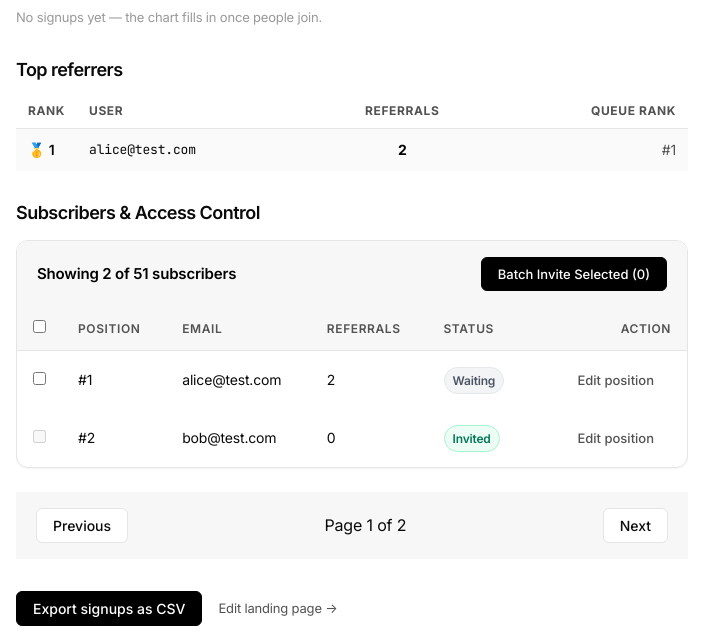
Test: WaitlistDetail Page - CSV Export, Admin Controls & Funnel Analytics › fetches another subscriber page and clears selections from the previous page
(page scrolled)
Click the checkbox named "Select alice@test.com" at (40, 378), box [33,372,46,385]
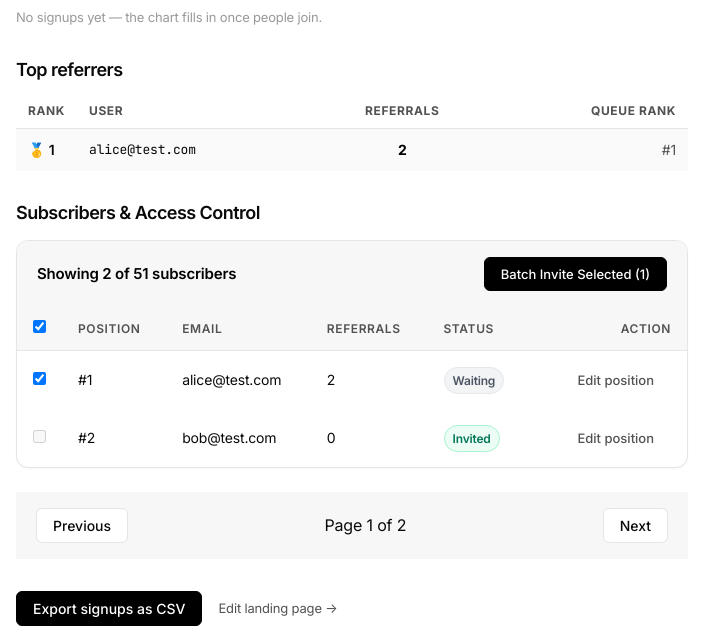
Click the button "Next" at (635, 526), box [603,508,668,543]
(page scrolled)
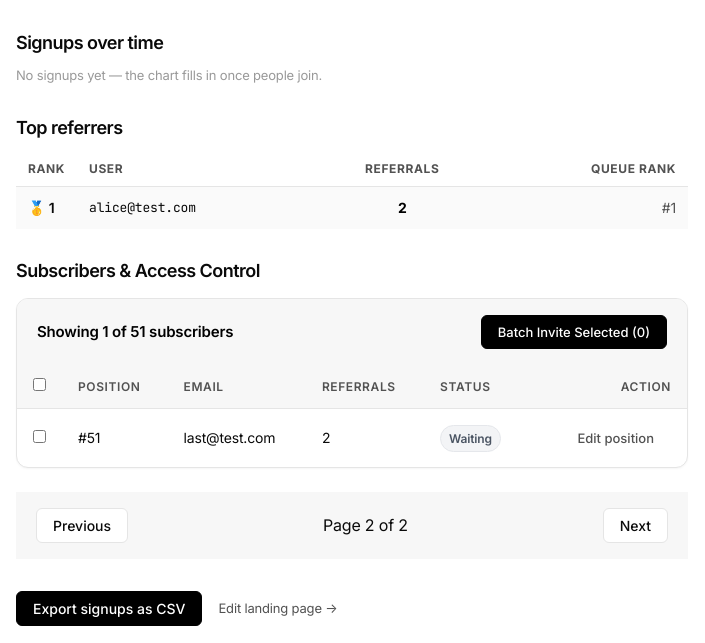
Expected: the checkbox named "Select last@test.com" is shown, [33,430,46,443]
Expected: the button "Batch Invite Selected (0)" is disabled, [481,315,667,349]
